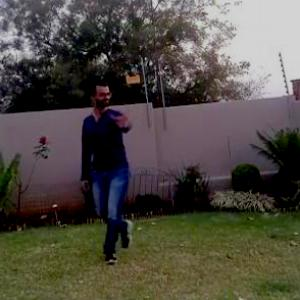takeoff-hand: (111, 110, 134, 135)
